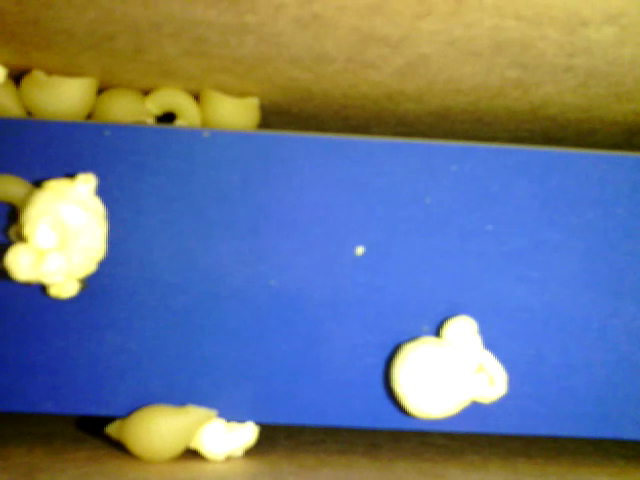elbow: (1, 174, 42, 244), (147, 82, 201, 125)
shell: (105, 403, 221, 462), (19, 70, 102, 123), (197, 84, 262, 130), (91, 84, 159, 126)
